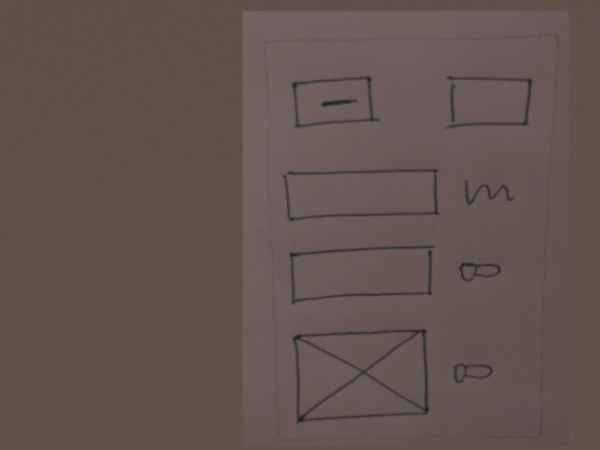button: (287, 76, 383, 132)
image: (287, 325, 433, 422)
switch: (457, 255, 505, 293), (449, 357, 497, 395)
text: (454, 169, 520, 215)
text_input: (279, 161, 442, 227), (279, 241, 441, 306), (440, 71, 536, 135)
